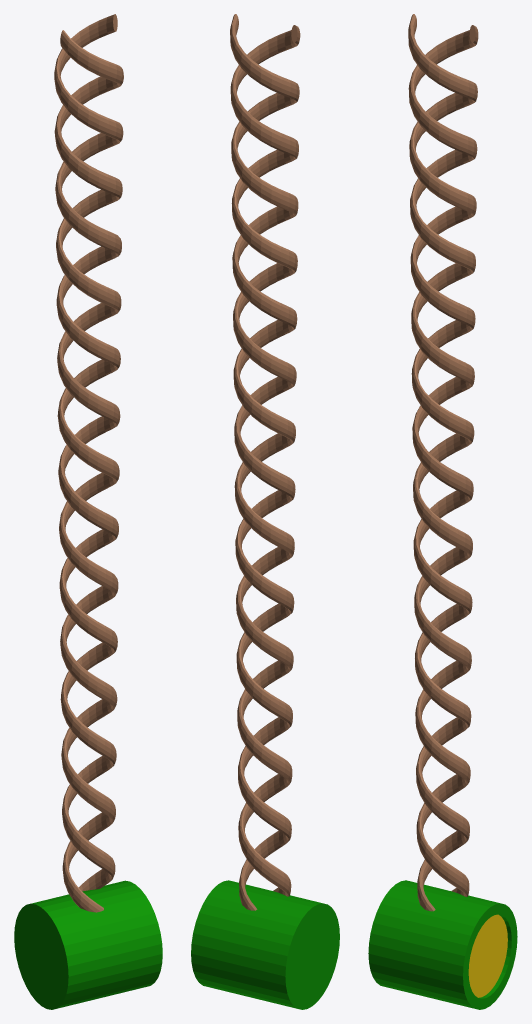
File: Liane.fbx
3 views of the same model, side by side, from view 1: azimuth 30°, elevation 25°; view 2: azimuth 150°, elevation 25°; view 3: azimuth 330°, elevation 25° (orthographic).
Parts seen in each view (by area): view 1: grip pod; view 2: grip pod; view 3: grip pod.
Boxes of the visible parts, box(x1,y1,x2,y2) form: grip pod: box(14, 14, 162, 1009); grip pod: box(191, 14, 339, 1009); grip pod: box(368, 14, 517, 1009).
Size of the model in its own units: 1141 by 11252 by 1141.
